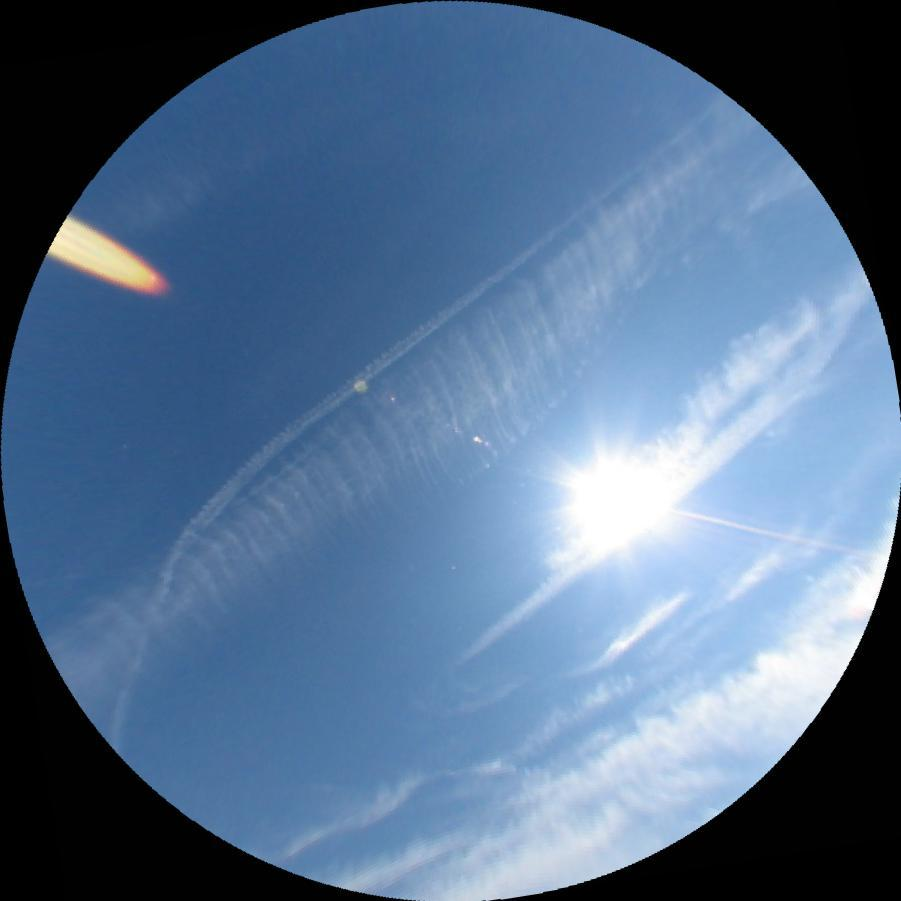contrail old: (39, 26, 731, 753)
contrail veryold: (35, 97, 829, 751), (450, 267, 896, 699), (522, 277, 830, 583)
parasite: (661, 504, 876, 560)
sun: (571, 455, 669, 543)
